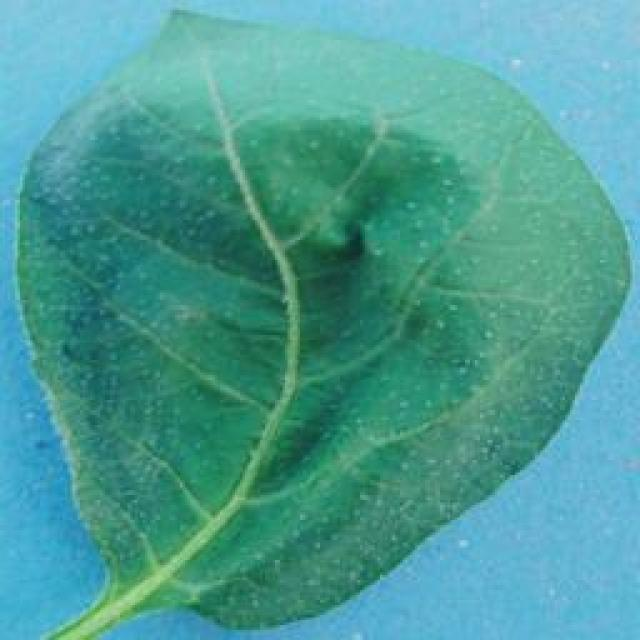Potato_Healthy: (14, 10, 620, 633)
